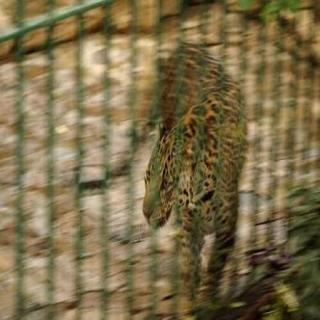Leopard: (122, 22, 250, 315)
